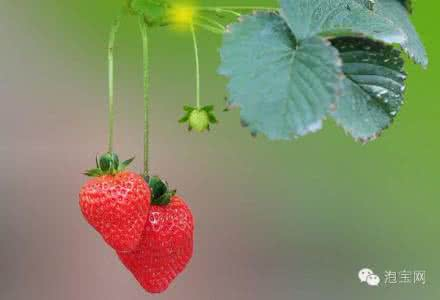strawberry: (117, 172, 195, 289), (83, 154, 149, 249)
